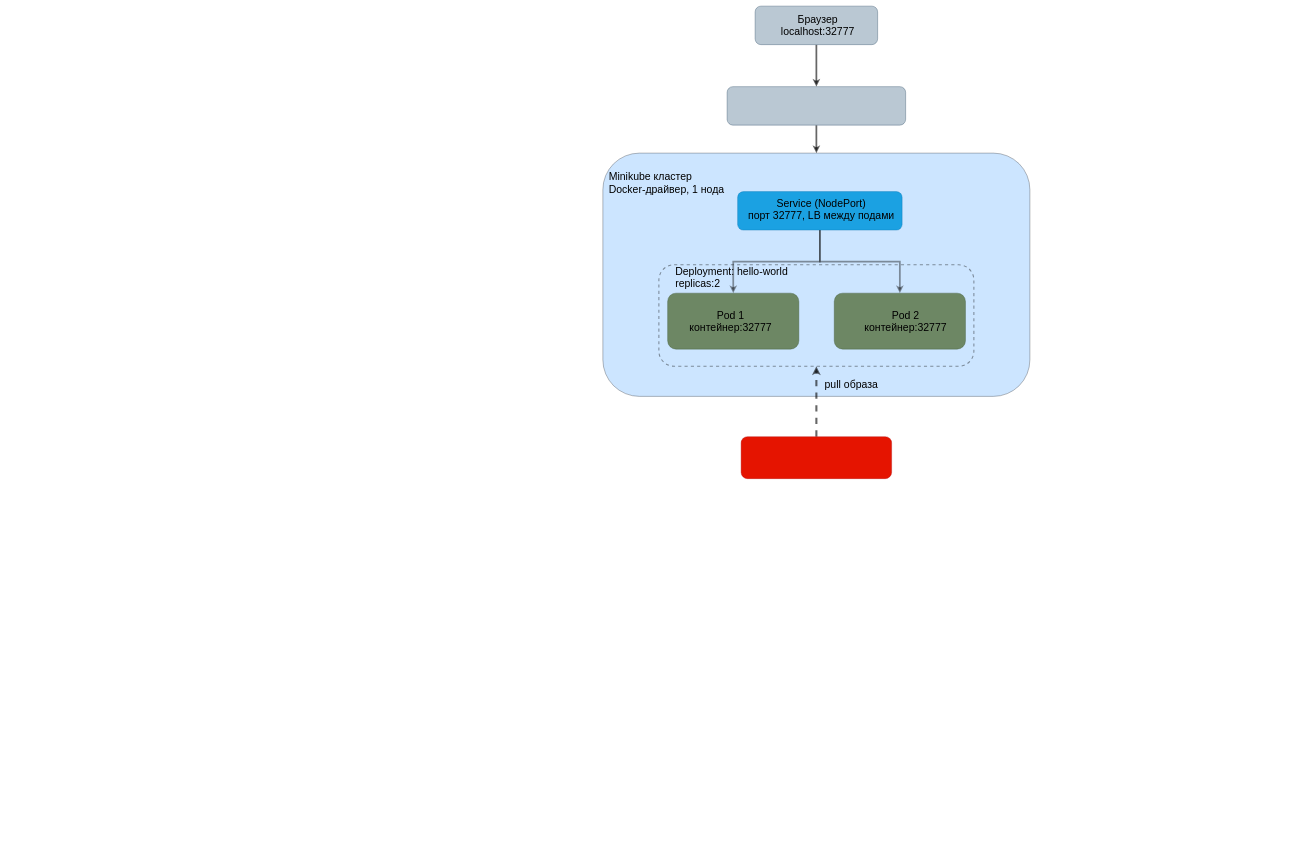
This 1314x852 diagram has some shape labels left out. Each missing label, with the centre of its shape:
Docker Hub user/hello-world:1.0: (x=816, y=457)
kubectl port-forward проброс порта 32777: (x=816, y=105)
